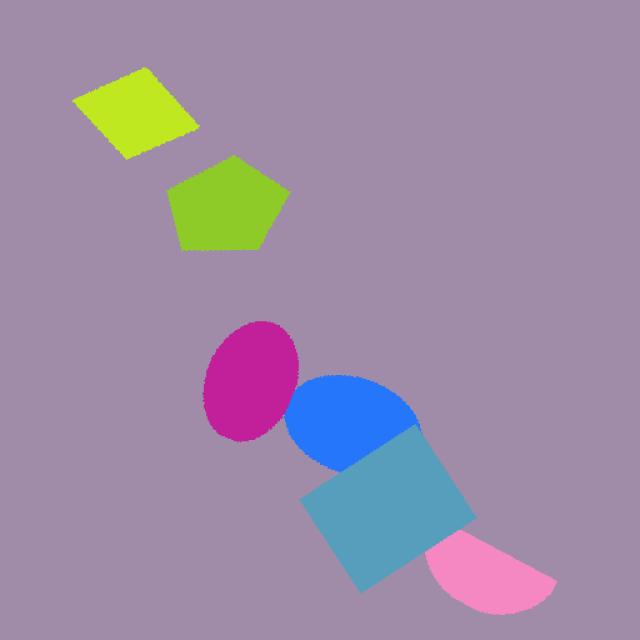Circle: (189, 310, 301, 465)
Kite: (34, 34, 228, 162)
Oval: (272, 347, 453, 481)
Pentagon: (146, 143, 321, 278)
Semicircle: (415, 500, 561, 626)
square: (299, 414, 479, 596)
